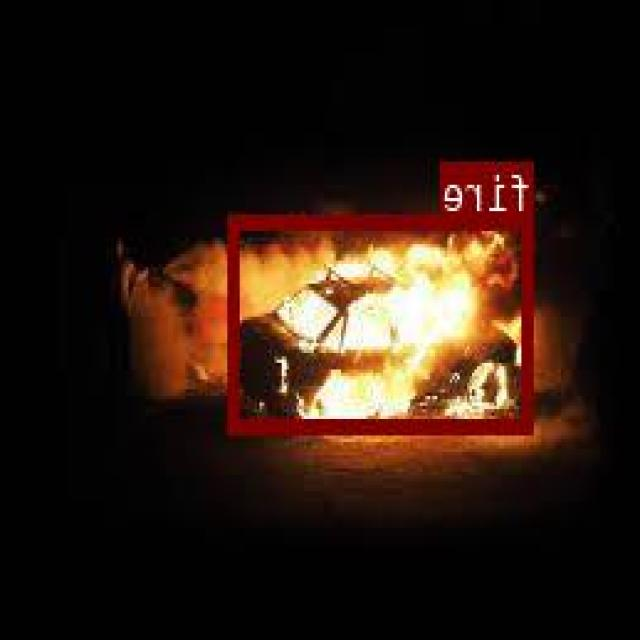fire: (231, 214, 535, 431)
